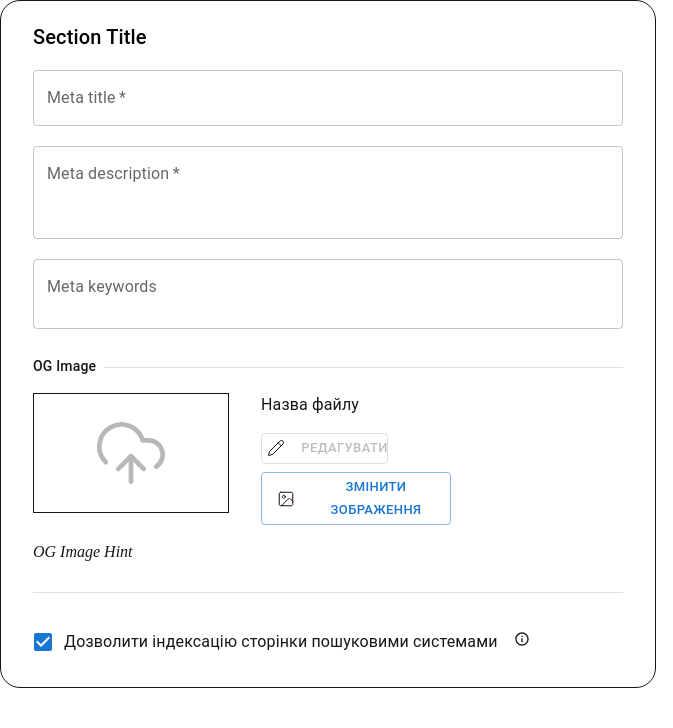
Scenario: SeoMetadataForm › shows error helper text in multiline keywords field when invalid keywords are typed
The image size is (673, 728).
Step 1. Type "a, , b" into the text box labelled "Meta keywords" → (328, 294), box 47,271 -> 609,317
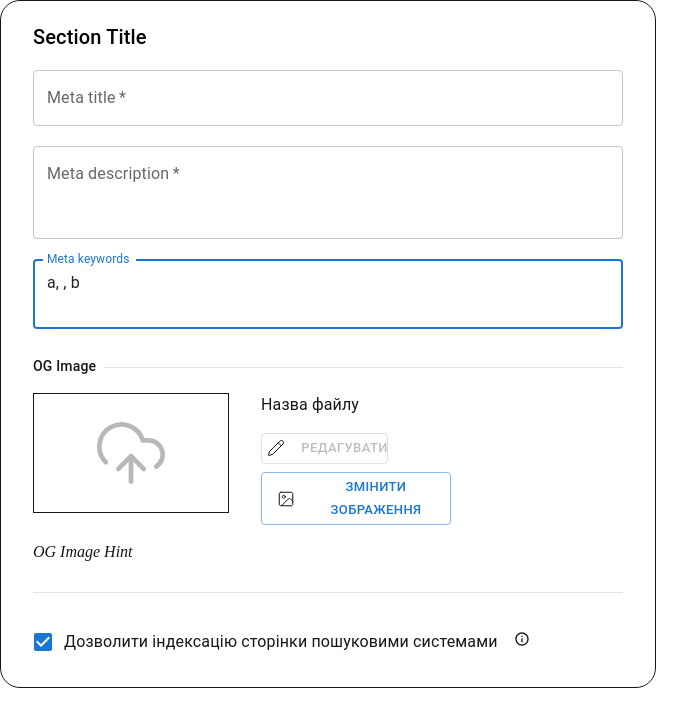
Step 2. Leave the text box labelled "Meta keywords", box 47,271 -> 609,317
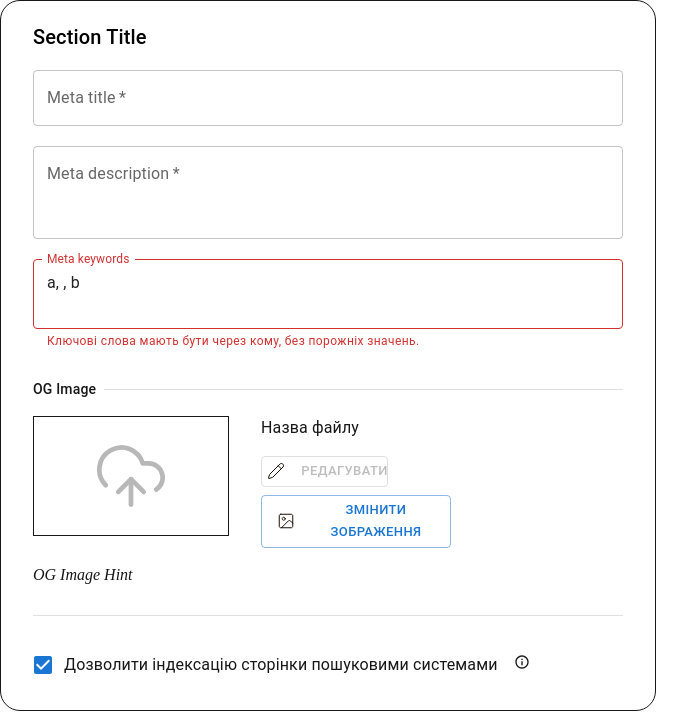
Now the text "Ключові слова мають бути через кому, без порожніх значень." is shown, box 47,334 -> 420,348
